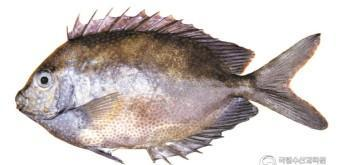fish: (17, 8, 327, 163)
